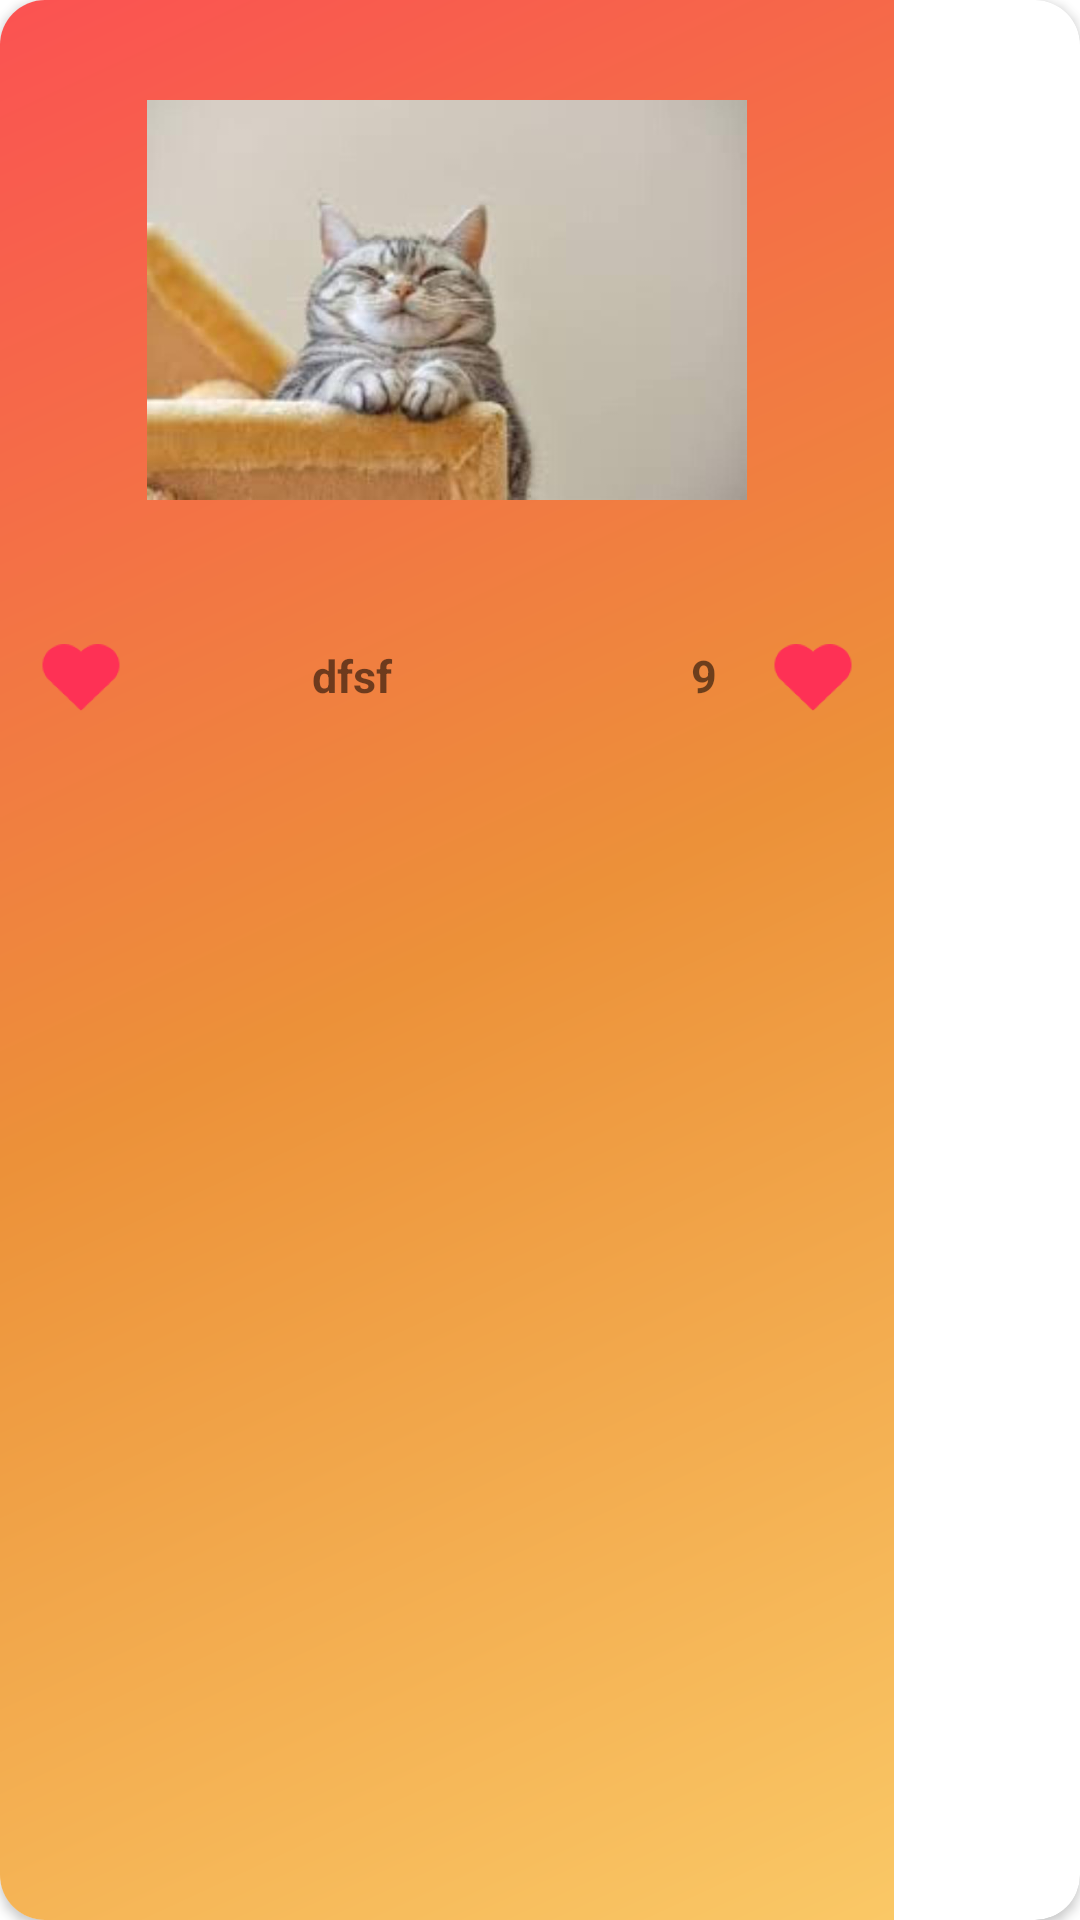

Where icons sit on this 1080*1920 app screen, as Rect(x1, y1, x2, y2):
like: Rect(42, 644, 120, 710), Rect(774, 644, 852, 710)
